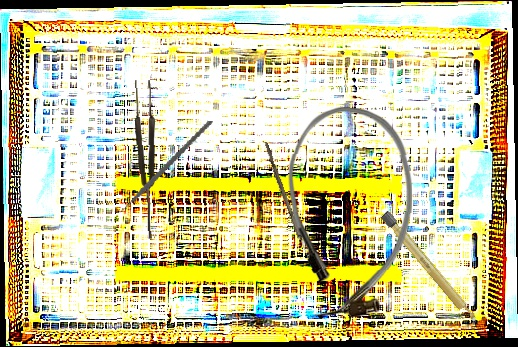Cannula: (285, 106, 414, 318)
Chopper: (108, 103, 214, 229)
Scalpel Handle: (379, 209, 481, 328)
Surgical Spoon: (261, 141, 317, 273)
Tissue Forceps: (133, 79, 159, 240)
